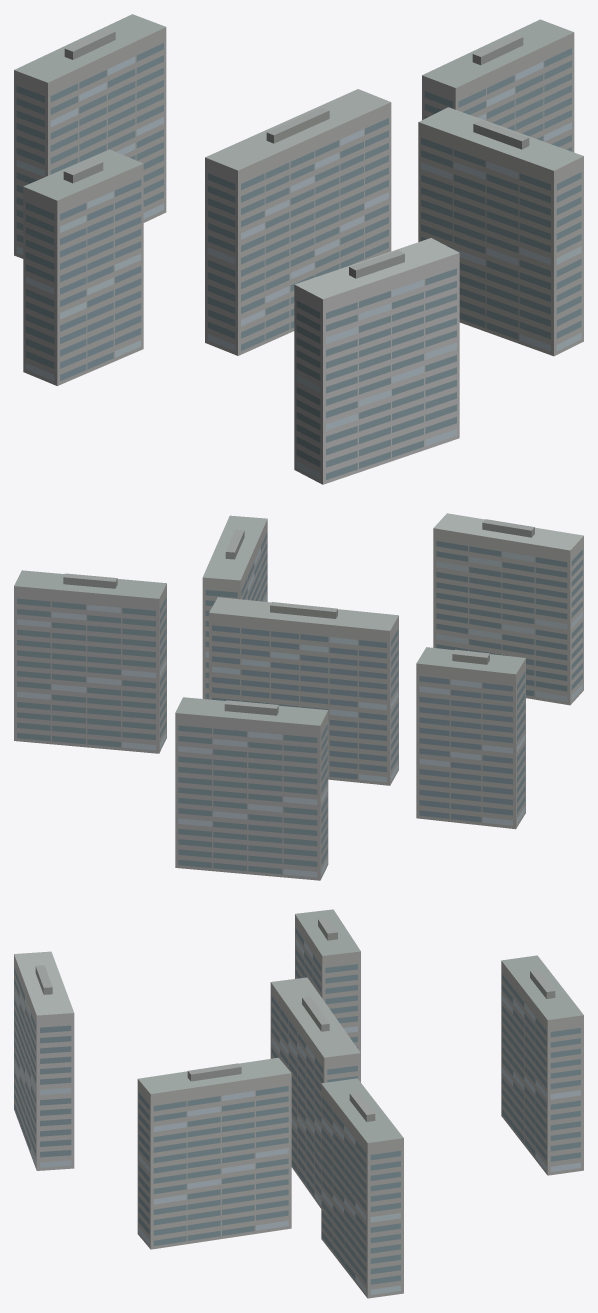
File: apt-a13385705.glb
The picture shows the model from 3 angles, top to bottom: view 1: azimuth 30°, elevation 25°; view 2: azimuth 150°, elevation 25°; view 3: azimuth 270°, elevation 25°; orthographic projection. The views are drawn at different scales.
Visible parts, largest first — view 1: apt-a13385705; view 2: apt-a13385705; view 3: apt-a13385705.
Part boxes in pixels (x1,y1,x2,y2): apt-a13385705: (14, 14, 583, 484); apt-a13385705: (14, 513, 583, 880); apt-a13385705: (14, 909, 583, 1298).
Bounding box in the file's own units: 148 × 47.81 × 152.
